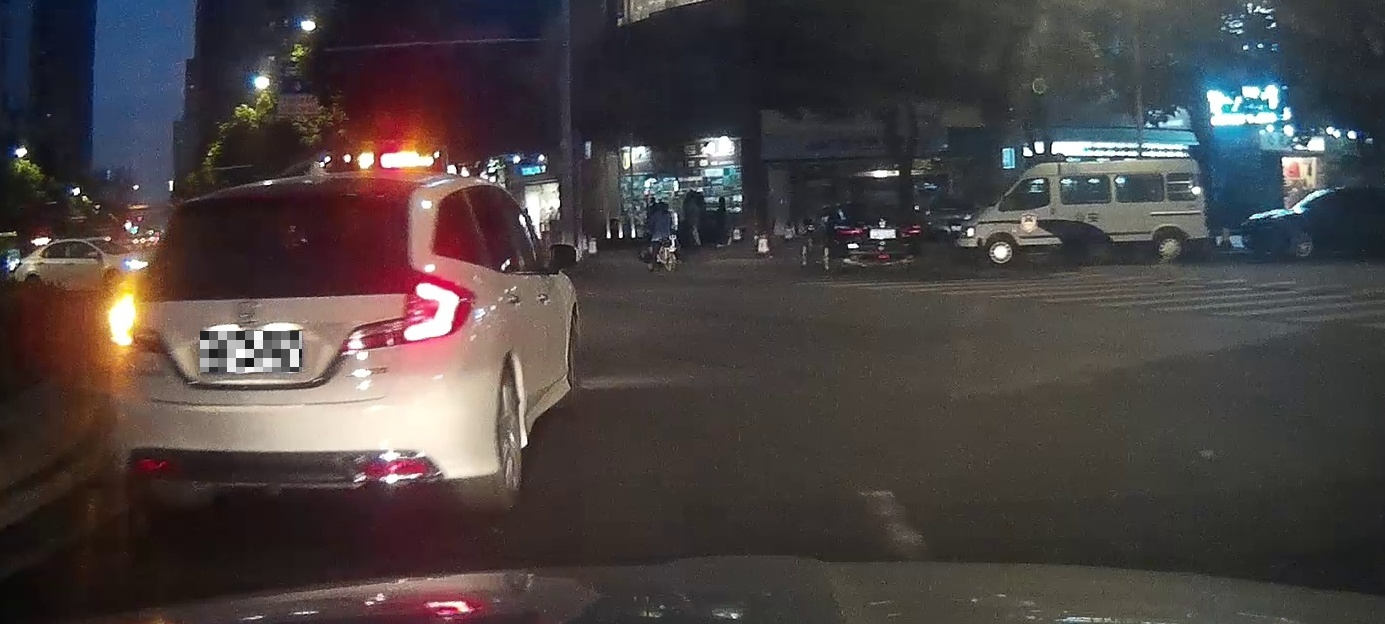L_light: (106, 293, 137, 347)
R_light: (400, 271, 473, 342)
T_light: (268, 195, 314, 204)
night-left: (105, 171, 478, 529)
plate_1: (200, 331, 302, 372)
